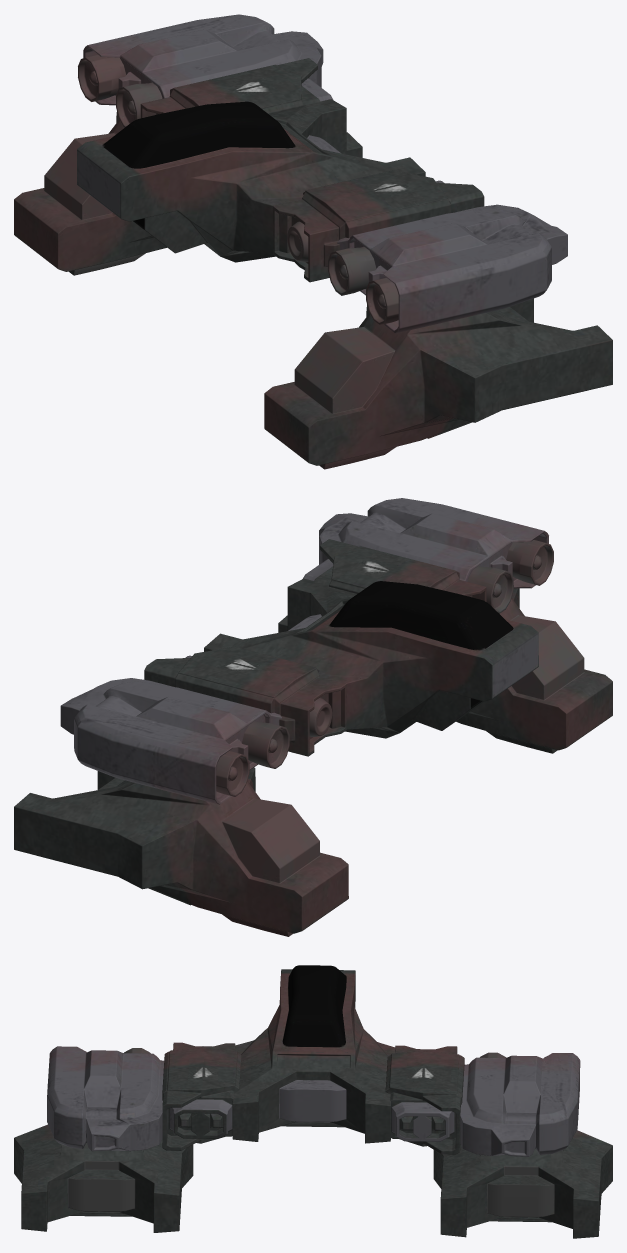
File: spaceship.glb
3 views of the same model, one above another, from view 1: azimuth 30°, elevation 25°; view 2: azimuth 150°, elevation 25°; view 3: azimuth 270°, elevation 25° (orthographic). The views are drawn at different scales.
Visible parts, largest first — view 1: ship; view 2: ship; view 3: ship.
Part boxes in pixels (x1,y1,x2,y2): ship: (14,14,612,469); ship: (14,498,612,936); ship: (14,965,612,1238).
Bounding box in the file's own units: 23.91 × 16.31 × 44.77.
Materials: 1 (1 with a texture image).
